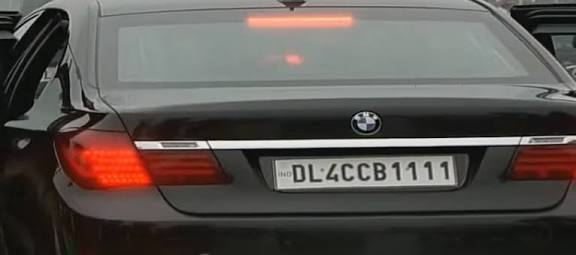numberplate: (273, 154, 457, 188)
